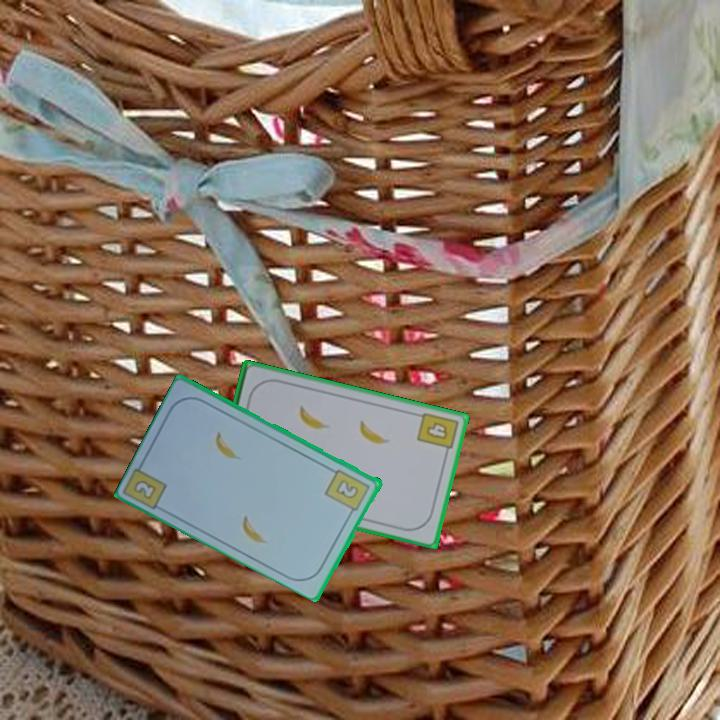2b: (322, 466, 373, 518), (130, 476, 160, 502)
4b: (413, 409, 461, 459)
